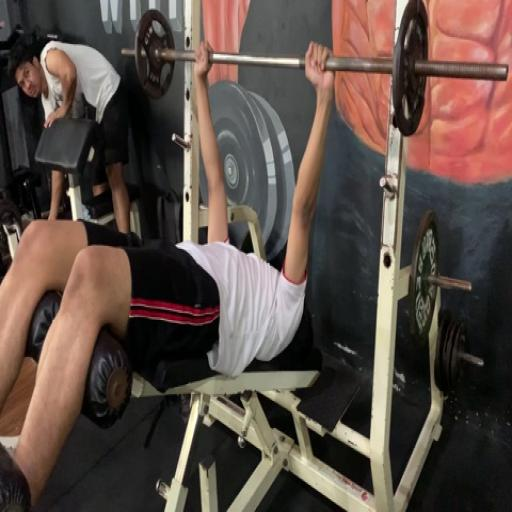exercise: (0, 37, 338, 511), (5, 34, 138, 239)
